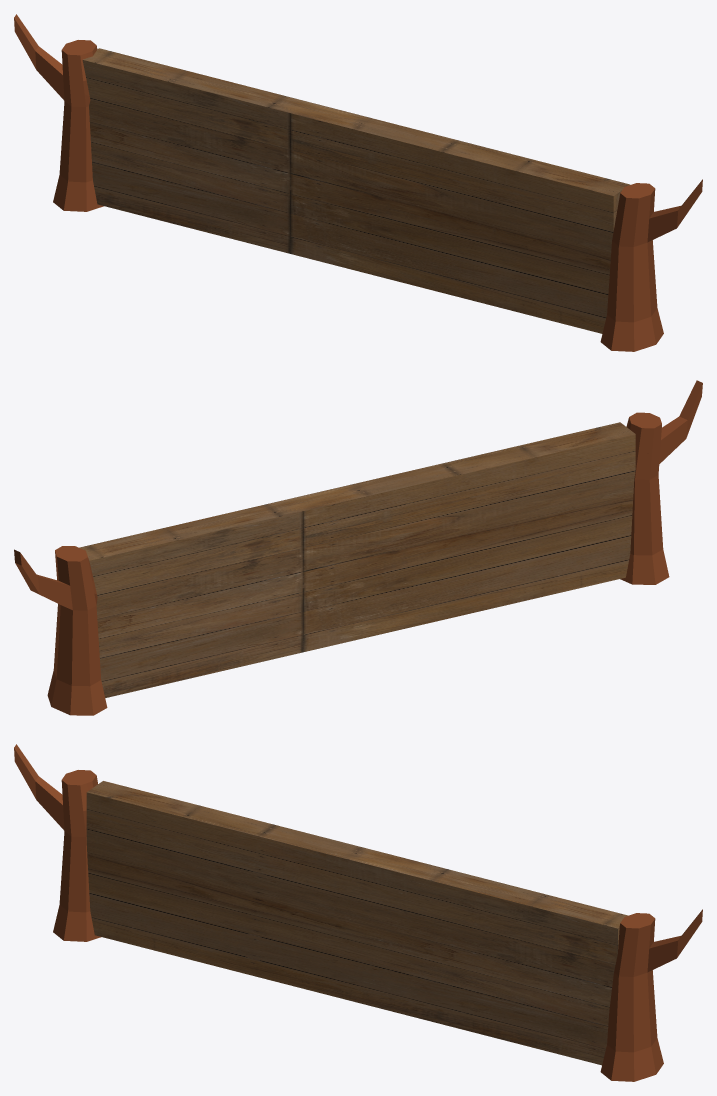
File: Level2Door1.glb
The picture shows the model from 3 angles, top to bottom: view 1: azimuth 90°, elevation 25°; view 2: azimuth 150°, elevation 25°; view 3: azimuth 270°, elevation 25°; orthographic projection.
Parts seen in each view (by area): view 1: Door_1; view 2: Door_1; view 3: Door_1.
Boxes of the visible parts, left/top/right/bottom form: Door_1: left=14, top=14, right=702, bottom=351; Door_1: left=14, top=380, right=702, bottom=715; Door_1: left=14, top=744, right=702, bottom=1081.
Size of the model in its own units: 9.75 by 4.58 by 16.85.
2 materials, 2 textured.
